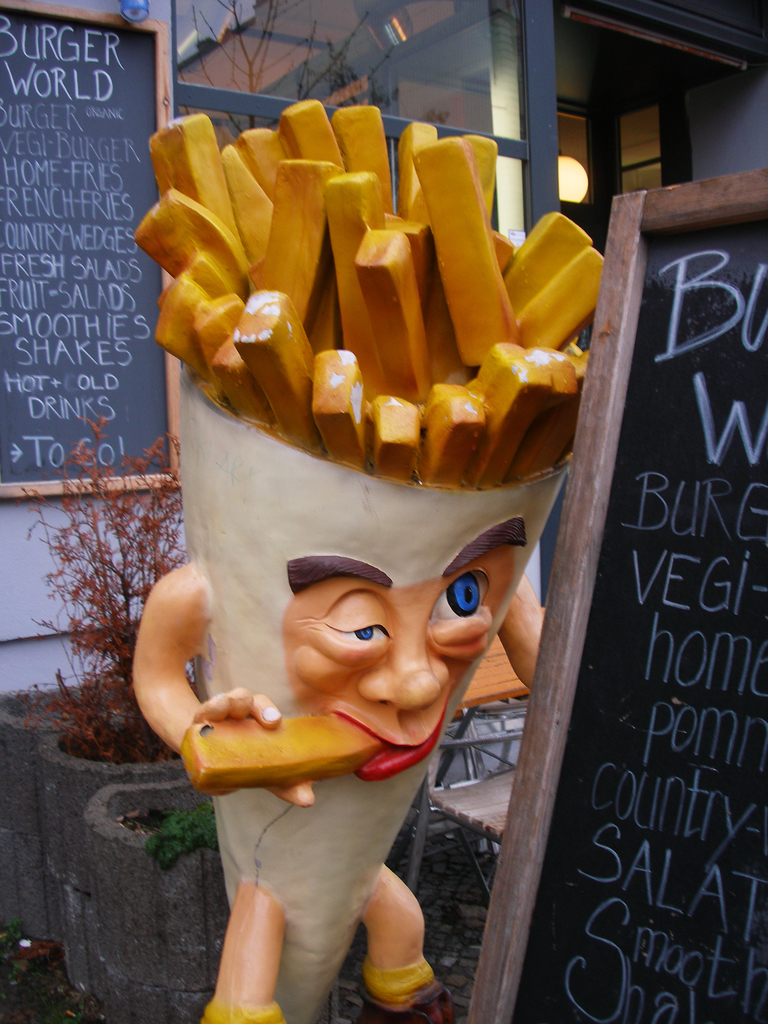French fries: (154, 104, 599, 496)
